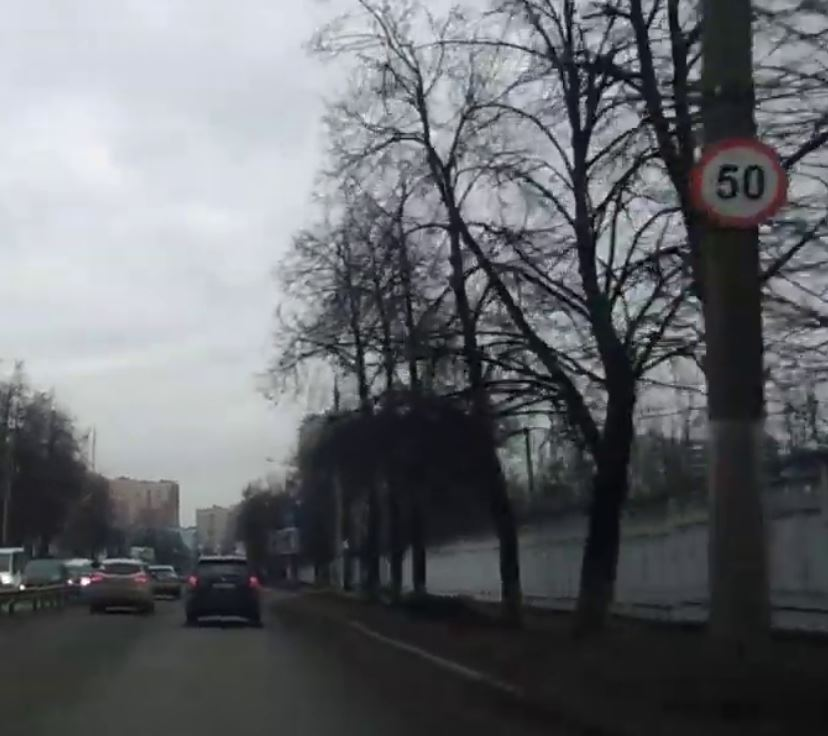50 Km Hiz Siniri: (686, 136, 796, 230)
